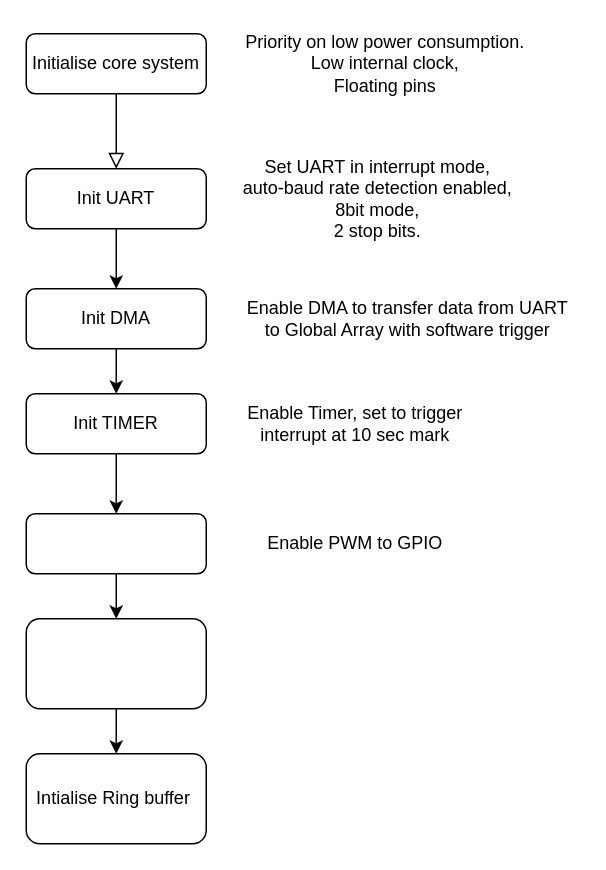
Image size: 606x870. Some labels were removed from this diagram. The shapes that lost their labels are listed below. From the top down, each one's centre as x and y in pixels, then its label:
the point at 115,543: Init PWM
the point at 115,663: Enable UART/Timer Interrupts
